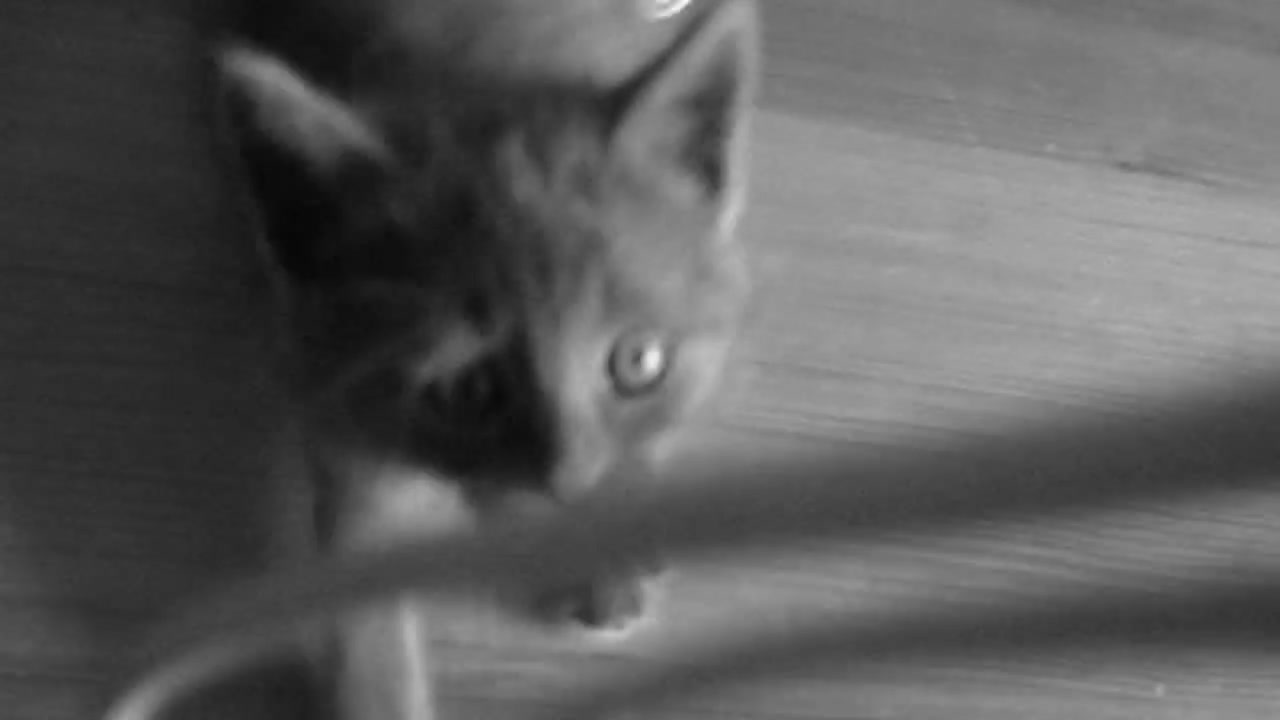cat: (210, 4, 776, 720)
